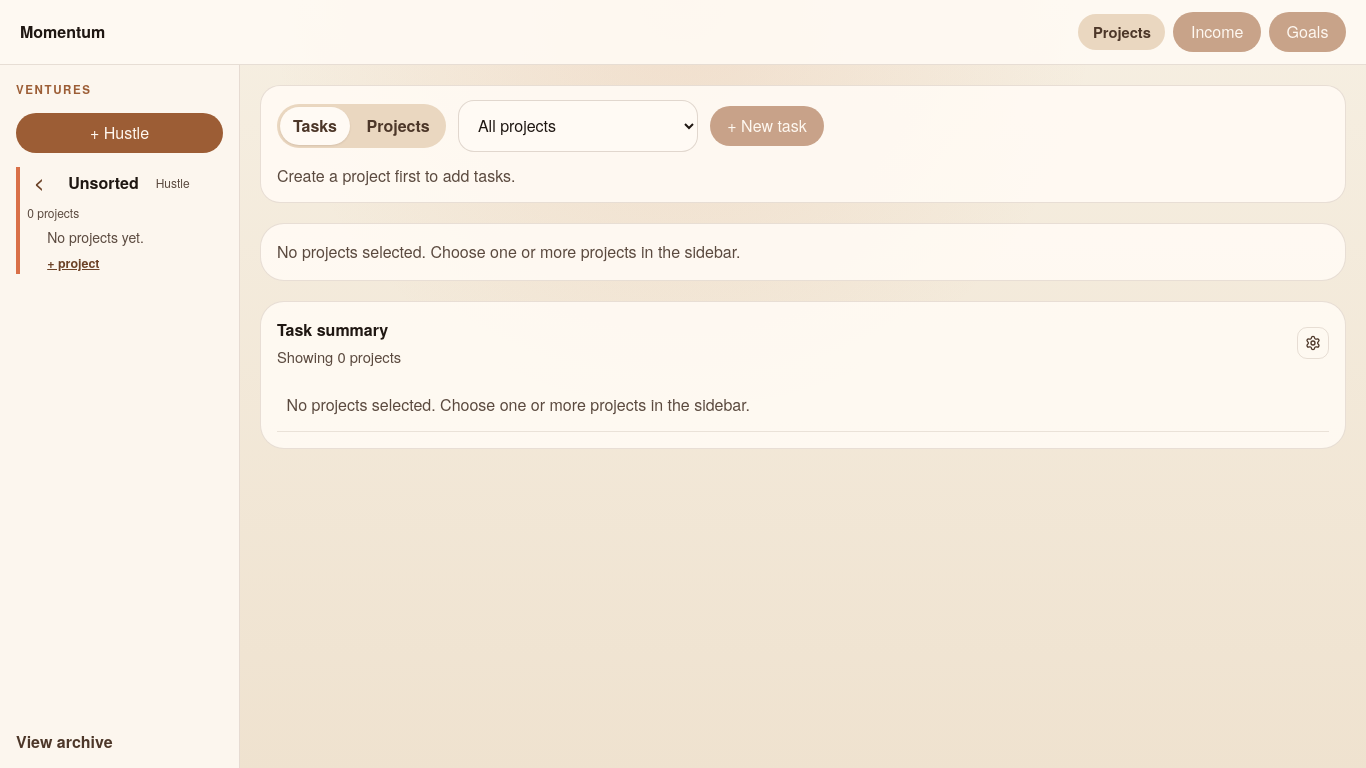
Test: Ticket 1b-2 project and task modal UX › colour picker › labels the picker Colour, shows only the selected swatch by default, and reveals all 12 palette options on click
What coordinates should you click on to do the following:
click the link "+ project"
I would click on:
 (73, 263)
Its box is [47,252,100,274].
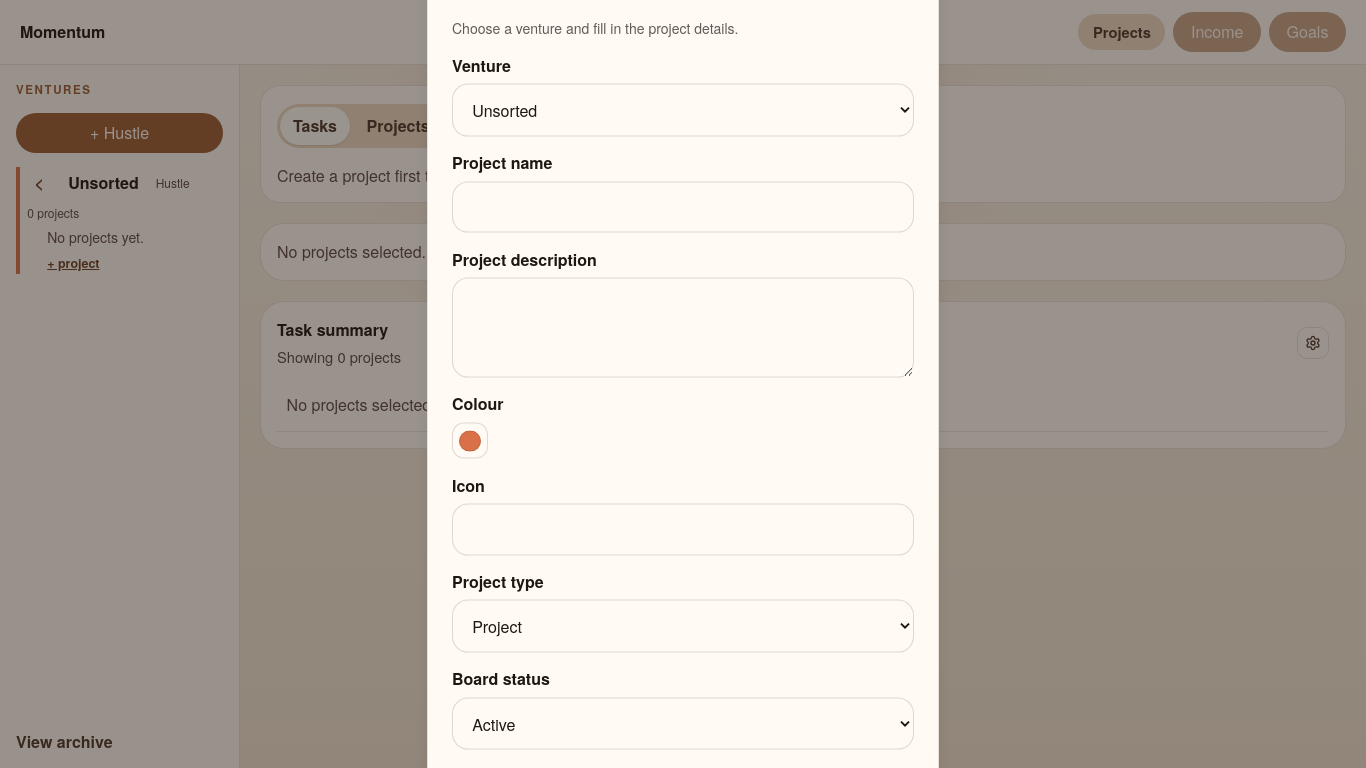
Check: the text "Colour" is shown, box [452,392,504,415]
What coordinates should you click on to do the following:
click the button named "colour"
I would click on:
 (470, 441)
Its box is [452,423,488,459].
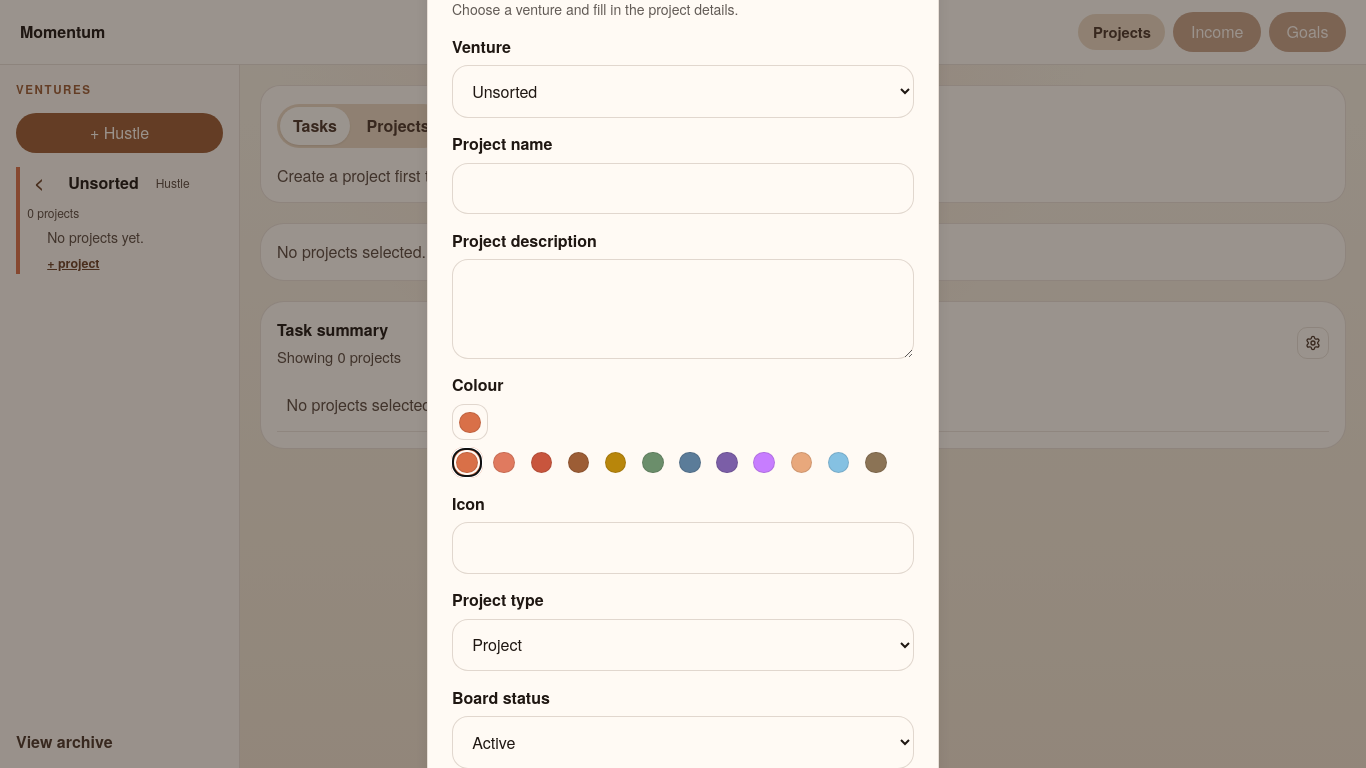
Check: the number of radio buttons named "colour swatch" is 12
